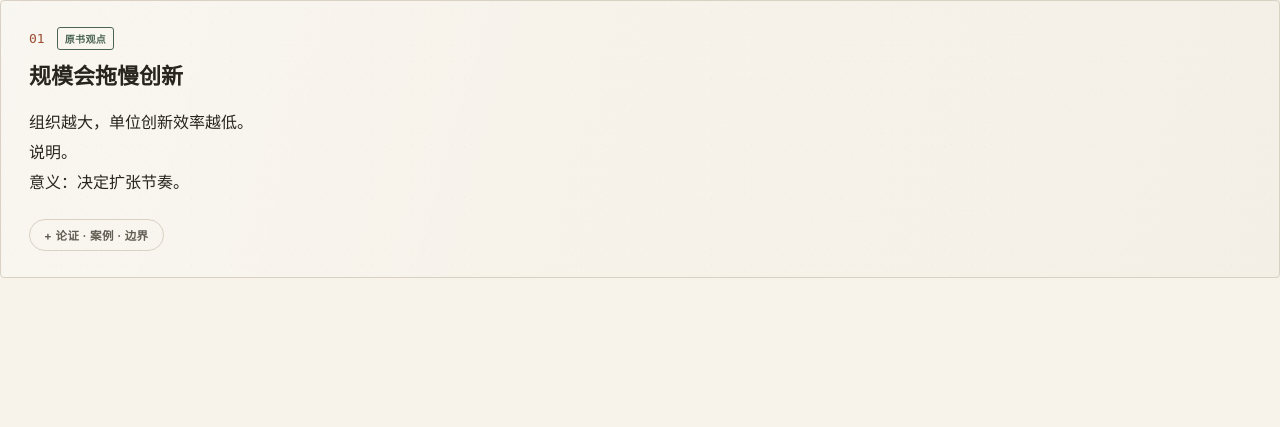
Test: CoreIdeaSection › falls back to the legacy combined caveats so older books still show boundaries
Click the heading "论证 · 案例 · 边界" at (96, 235), box [29,219,164,251]
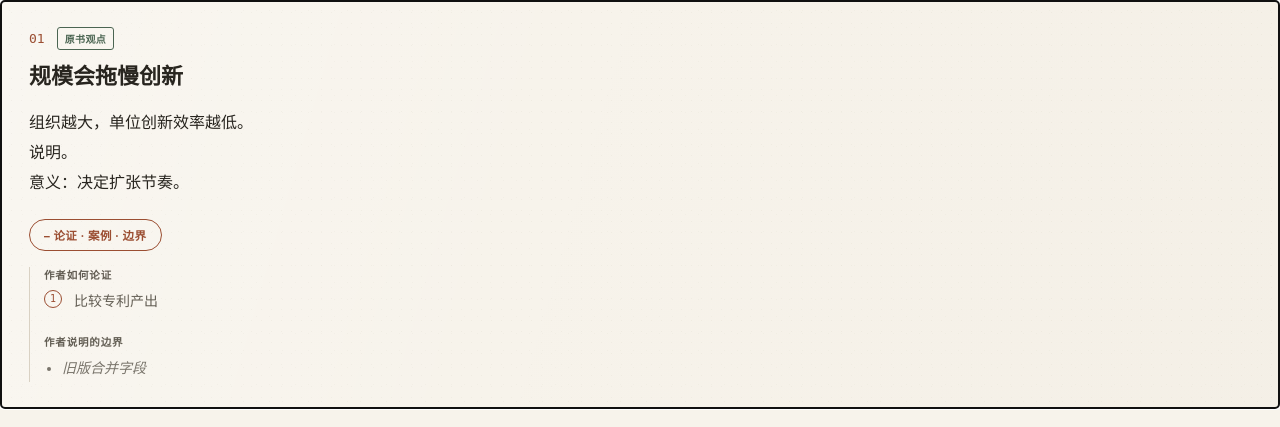
expect the heading "作者说明的边界" is shown: met, box [44,336,123,349]
expect the list item "旧版合并字段" is shown: met, box [62,361,146,376]
